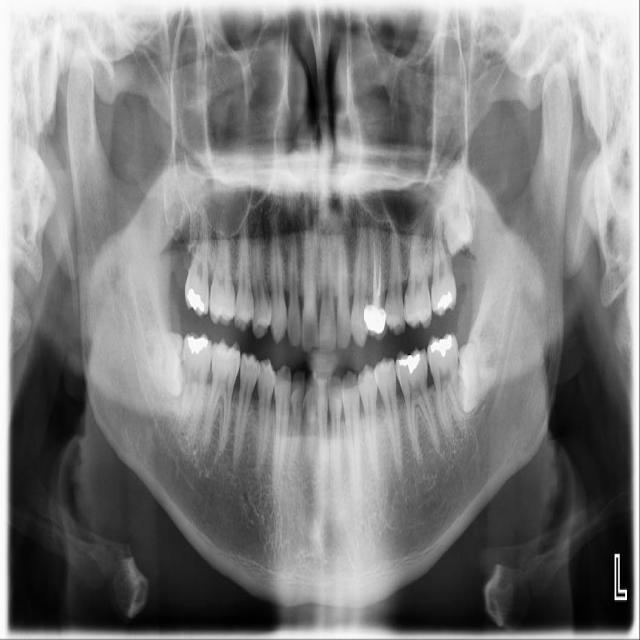52: (424, 331, 462, 380), (394, 346, 430, 395), (179, 330, 215, 378), (184, 269, 211, 317), (363, 296, 389, 342), (431, 275, 457, 318)
73: (367, 222, 385, 308), (618, 610, 626, 620)
BioHorizons Implant: (431, 205, 457, 319)
BioLife Implant: (437, 155, 476, 258)
Biomet 3i Implant: (455, 337, 501, 415)
Blue Sky Bio Implant: (424, 331, 468, 442)
Caries: (185, 207, 210, 316)
Implant: (175, 331, 214, 442)
Keystone Dental Implant: (138, 326, 191, 399)
